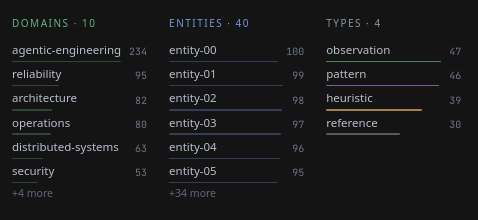
Scenario: overflow browser › Escape closes the browser
This screenshot has width=478, height=220.
Click the text with test id "facet-more" showing "+4 more". click: {"x": 32, "y": 193}
box: x1=12 y1=186 x2=53 y2=200
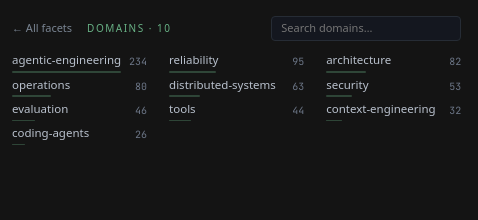
Press Escape in the element with test id "facet-browser"
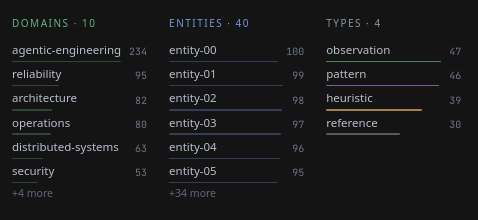
Expected: the element with test id "facet-browser" is gone
Expected: the number of elements with test id "facet-column" is 3, x1=12 y1=16 x2=147 y2=204; x1=169 y1=16 x2=304 y2=204; x1=326 y1=16 x2=461 y2=204
